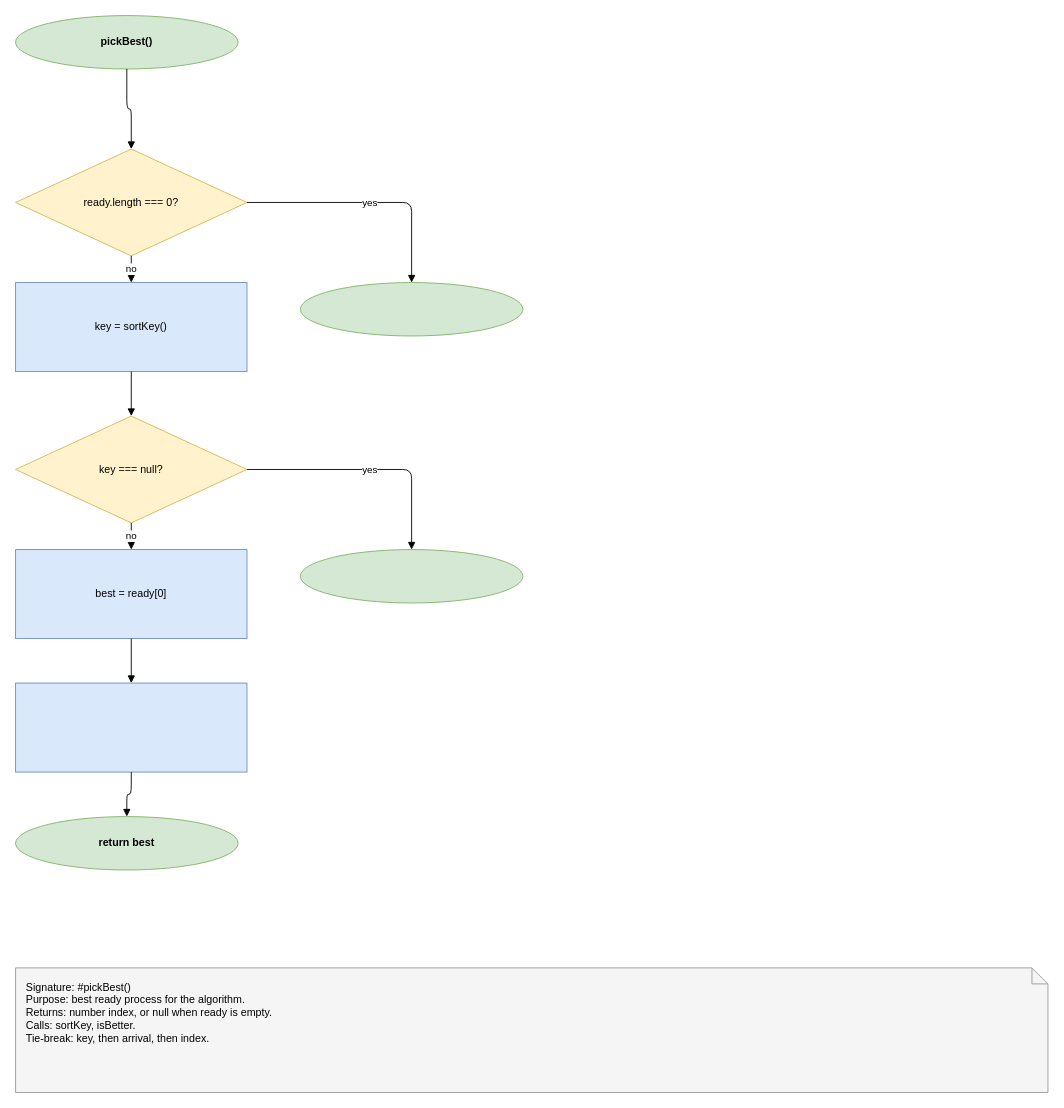
This 1064x1108 diagram has some shape labels left out. The centre of each missing label's shape, as x and y in pixels:
"for each index of ready: if isBetter(index, best, key) best = index" belongs at point (131, 727).
"return null" belongs at point (411, 309).
"return ready[0] (FCFS, RR keep queue order)" belongs at point (411, 576).
